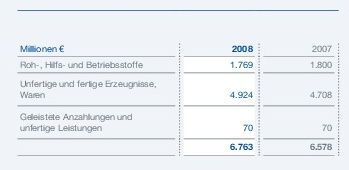table: (0, 0, 349, 170)
